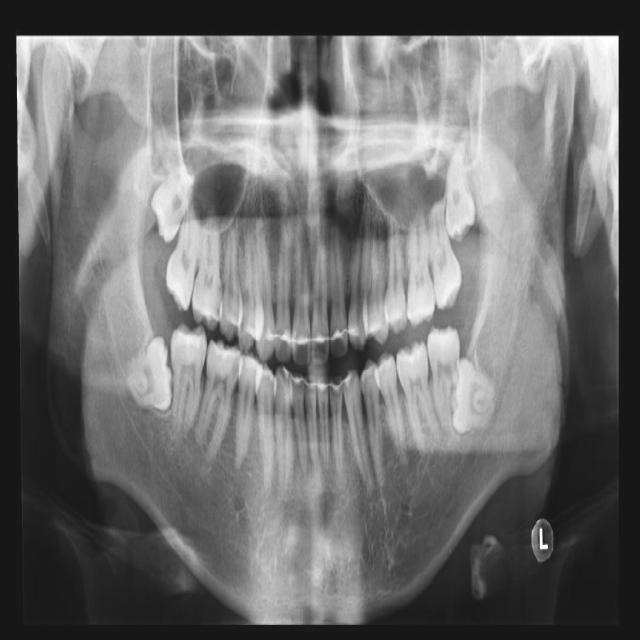impacted tooth: (122, 334, 172, 412), (455, 358, 500, 434), (150, 164, 194, 240), (446, 140, 475, 236)
